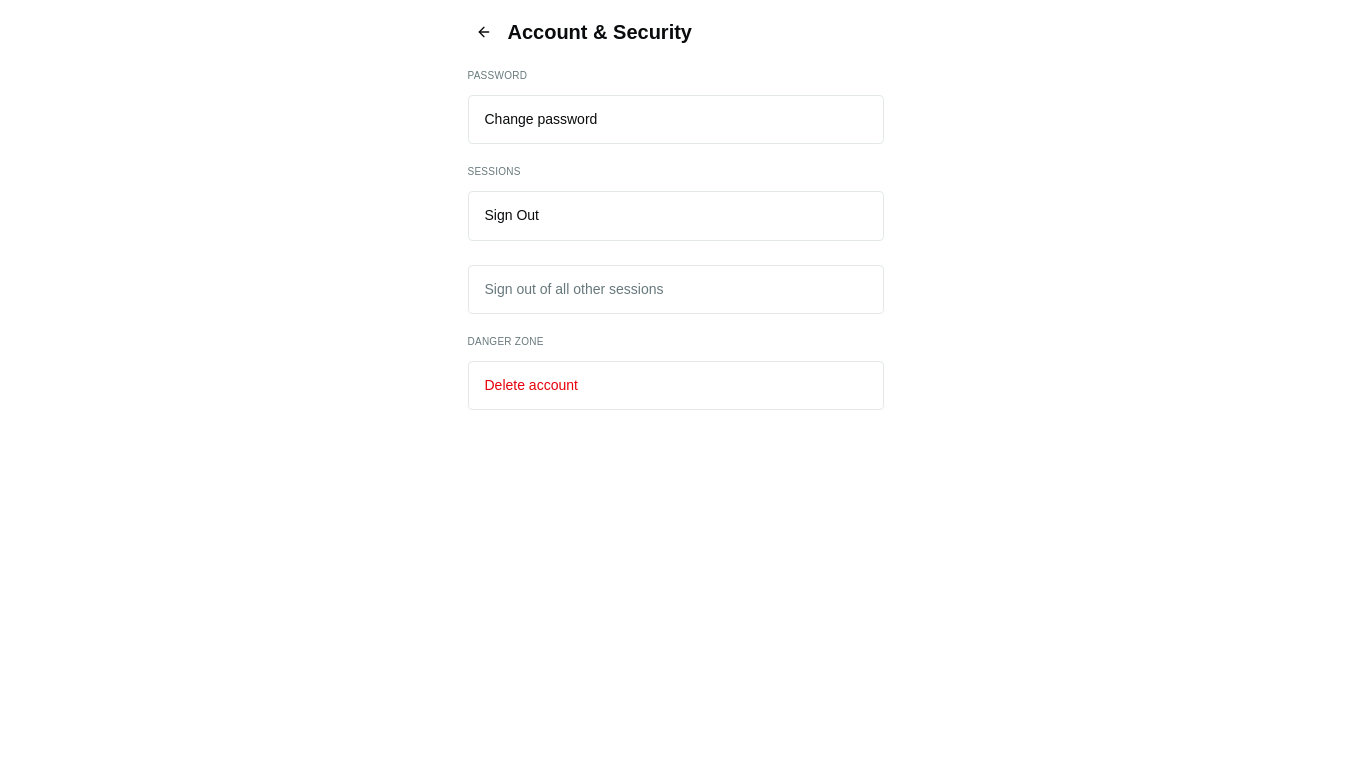
Test: offers Sign Out, grouped with the other session actions
Expected: the heading "Account & Security" is shown, [508, 21, 692, 43]
Click the button "Sign Out" at (512, 215), box [468, 191, 884, 241]
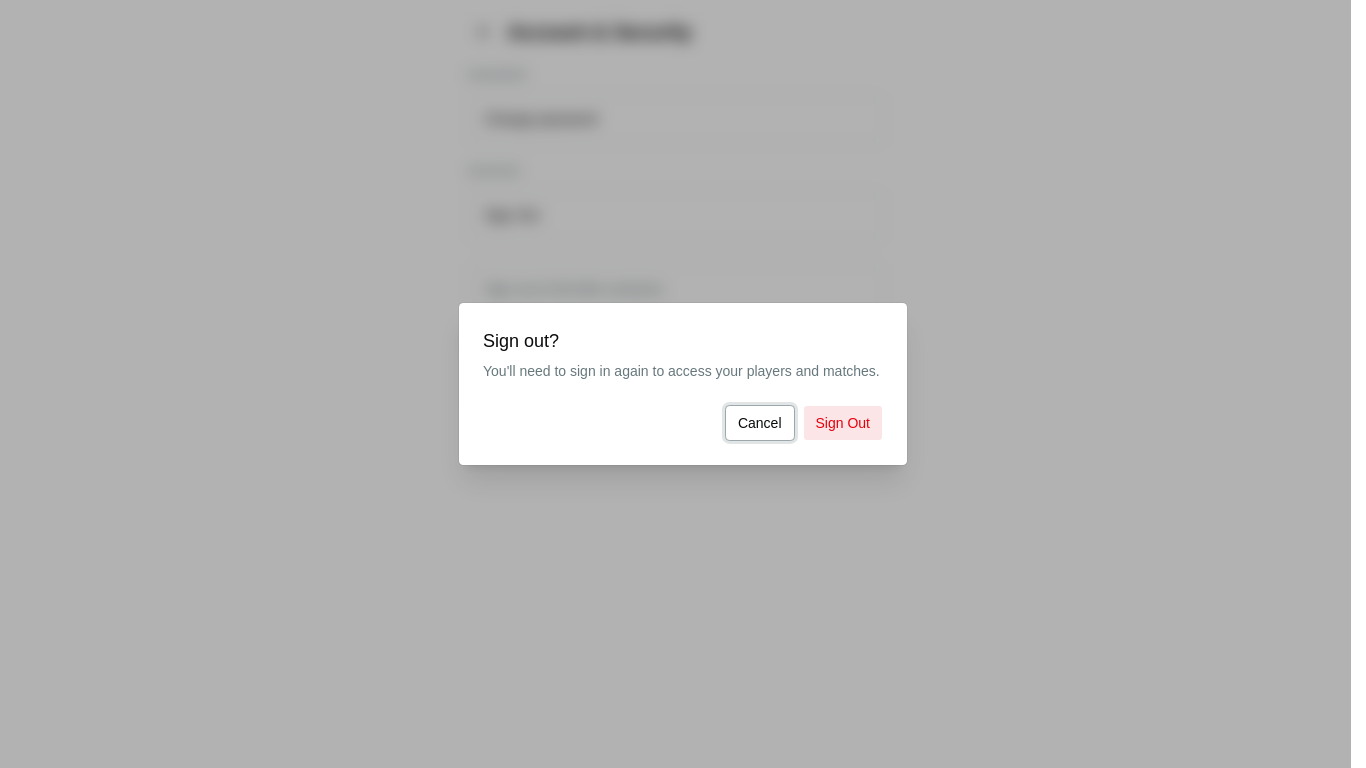
Result: the heading "Sign out?" is shown at [483, 327, 559, 355]
